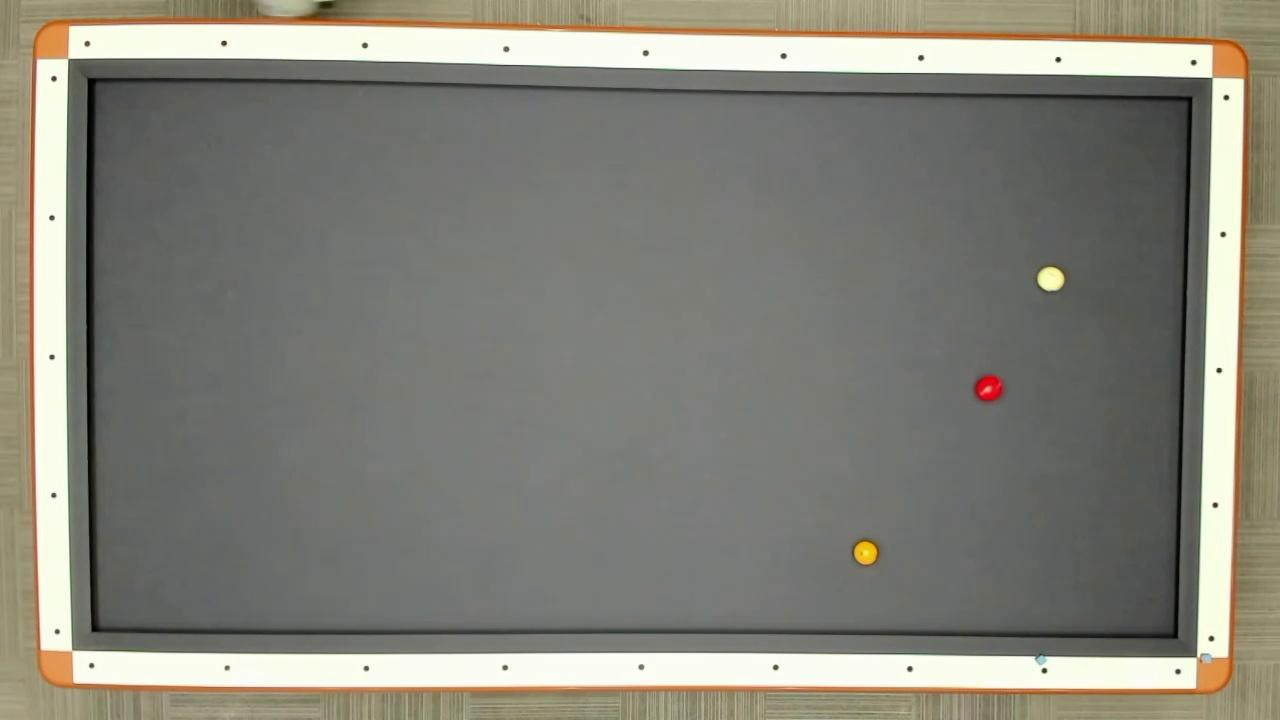Red: (974, 373, 1005, 402)
White: (1036, 264, 1068, 294)
Yellow: (851, 538, 880, 567)
